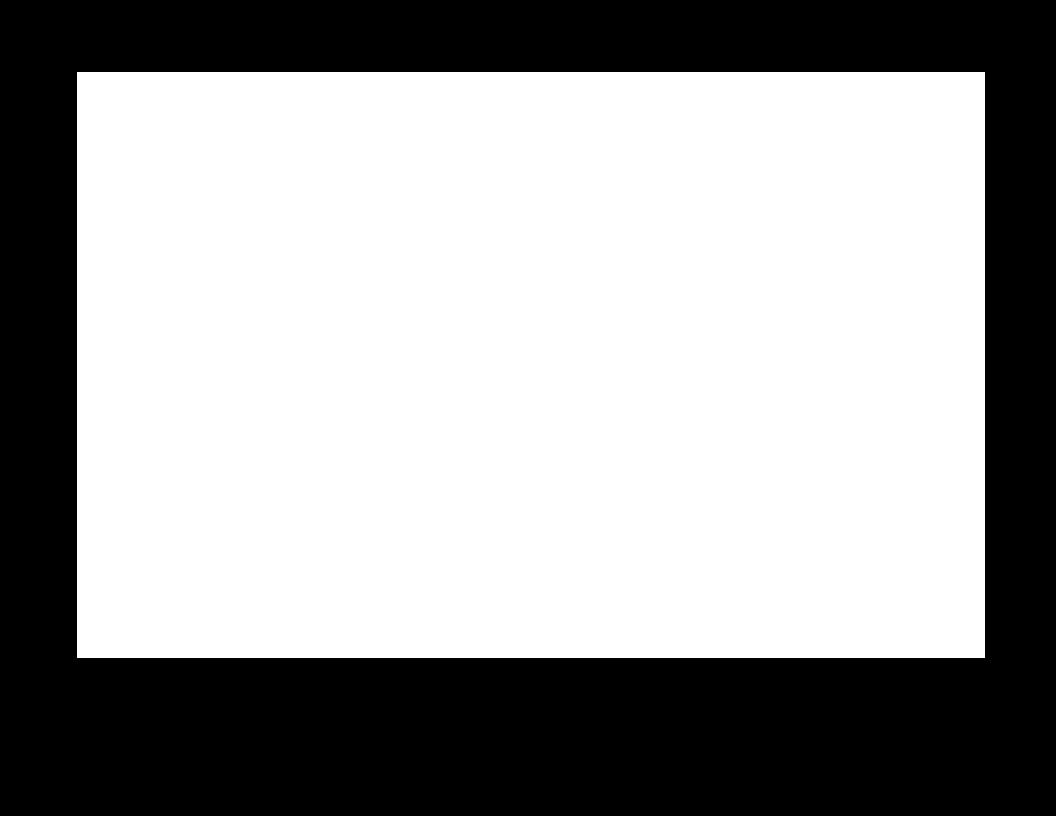table: (77, 72, 984, 657)
